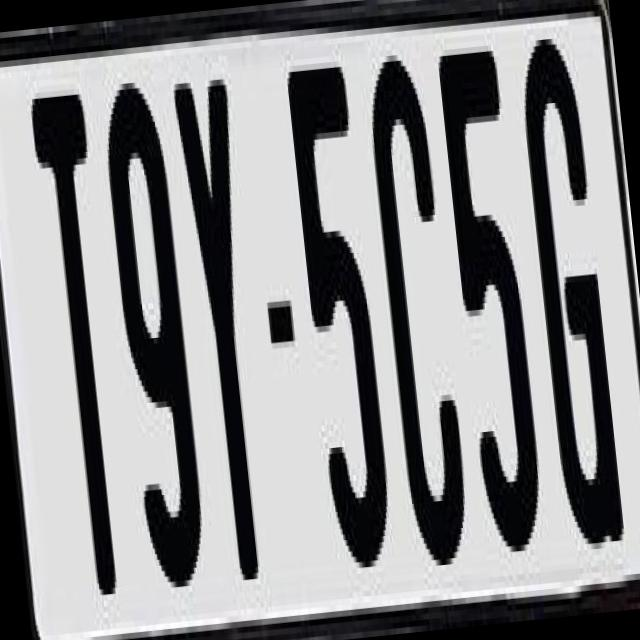5: (280, 66, 400, 576), (432, 49, 548, 554)
9: (96, 80, 216, 608)
C: (356, 34, 476, 550)
G: (511, 36, 624, 569)
T: (24, 88, 131, 592)
Y: (172, 78, 284, 617)
